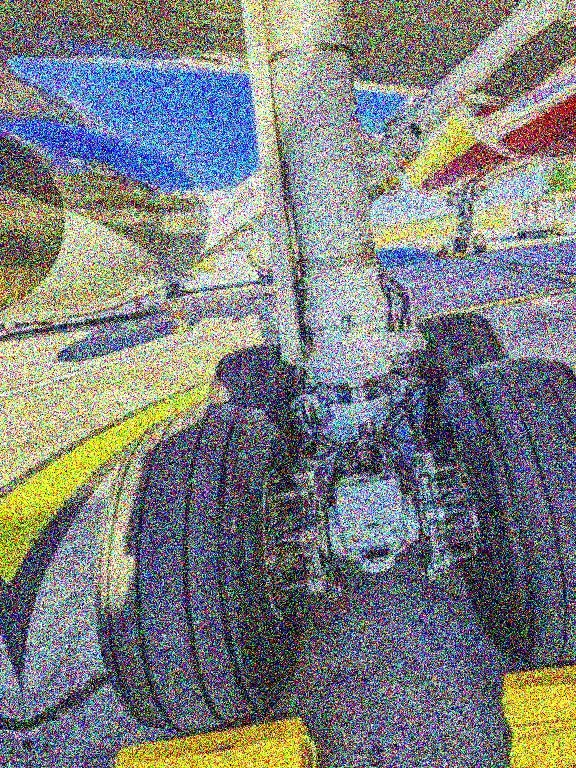chock: (95, 705, 320, 768), (498, 634, 576, 737), (507, 699, 576, 768), (452, 249, 468, 262)
wheel: (72, 390, 324, 744), (430, 338, 576, 678), (407, 302, 519, 442), (203, 337, 308, 466), (470, 232, 487, 254), (451, 235, 467, 254)
